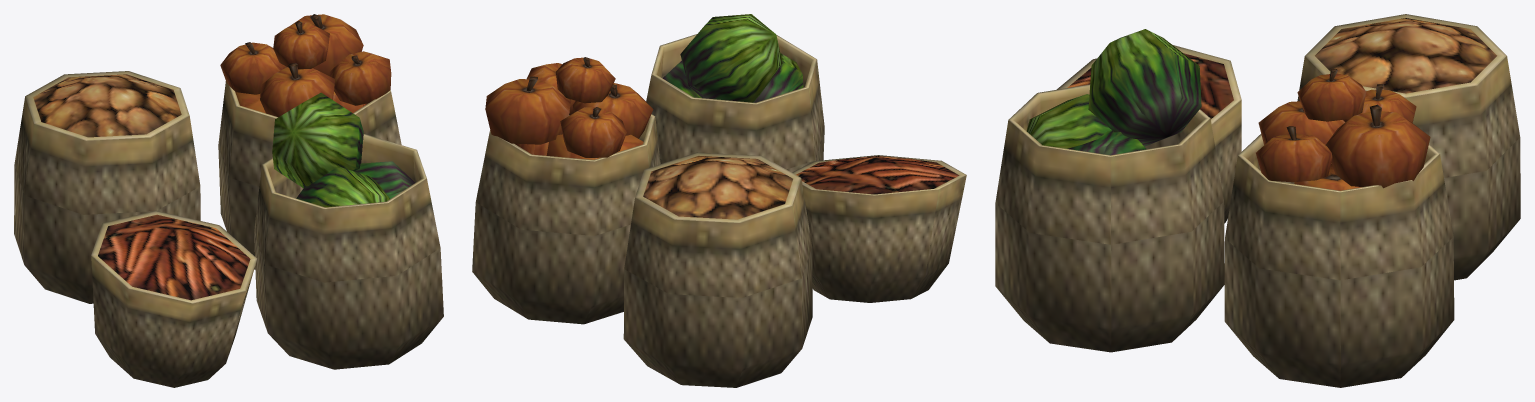
File: JJS_QY_CaiKuang.FBX
The picture shows the model from 3 angles, left to right: view 1: azimuth 30°, elevation 25°; view 2: azimuth 150°, elevation 25°; view 3: azimuth 270°, elevation 25°; orthographic projection. The views are drawn at different scales.
Parts seen in each view (by area): view 1: JJS_QY_CaiKuang03, JJS_QY_CaiKuang01, JJS_QY_CaiKuang04, JJS_QY_CaiKuang02; view 2: JJS_QY_CaiKuang01, JJS_QY_CaiKuang02, JJS_QY_CaiKuang03, JJS_QY_CaiKuang04; view 3: JJS_QY_CaiKuang02, JJS_QY_CaiKuang03, JJS_QY_CaiKuang01, JJS_QY_CaiKuang04.
Boxes of the visible parts, left/top/right/bottom form: JJS_QY_CaiKuang03: left=254, top=92, right=443, bottom=369; JJS_QY_CaiKuang01: left=14, top=71, right=200, bottom=303; JJS_QY_CaiKuang04: left=91, top=210, right=256, bottom=387; JJS_QY_CaiKuang02: left=218, top=14, right=401, bottom=269; JJS_QY_CaiKuang01: left=623, top=152, right=812, bottom=387; JJS_QY_CaiKuang02: left=472, top=57, right=660, bottom=324; JJS_QY_CaiKuang03: left=646, top=14, right=824, bottom=172; JJS_QY_CaiKuang04: left=792, top=155, right=966, bottom=302; JJS_QY_CaiKuang02: left=1224, top=69, right=1454, bottom=387; JJS_QY_CaiKuang03: left=995, top=29, right=1224, bottom=352; JJS_QY_CaiKuang01: left=1297, top=14, right=1520, bottom=280; JJS_QY_CaiKuang04: left=1057, top=45, right=1241, bottom=223.
Bounding box in the file's own units: 356 × 217 × 365.
